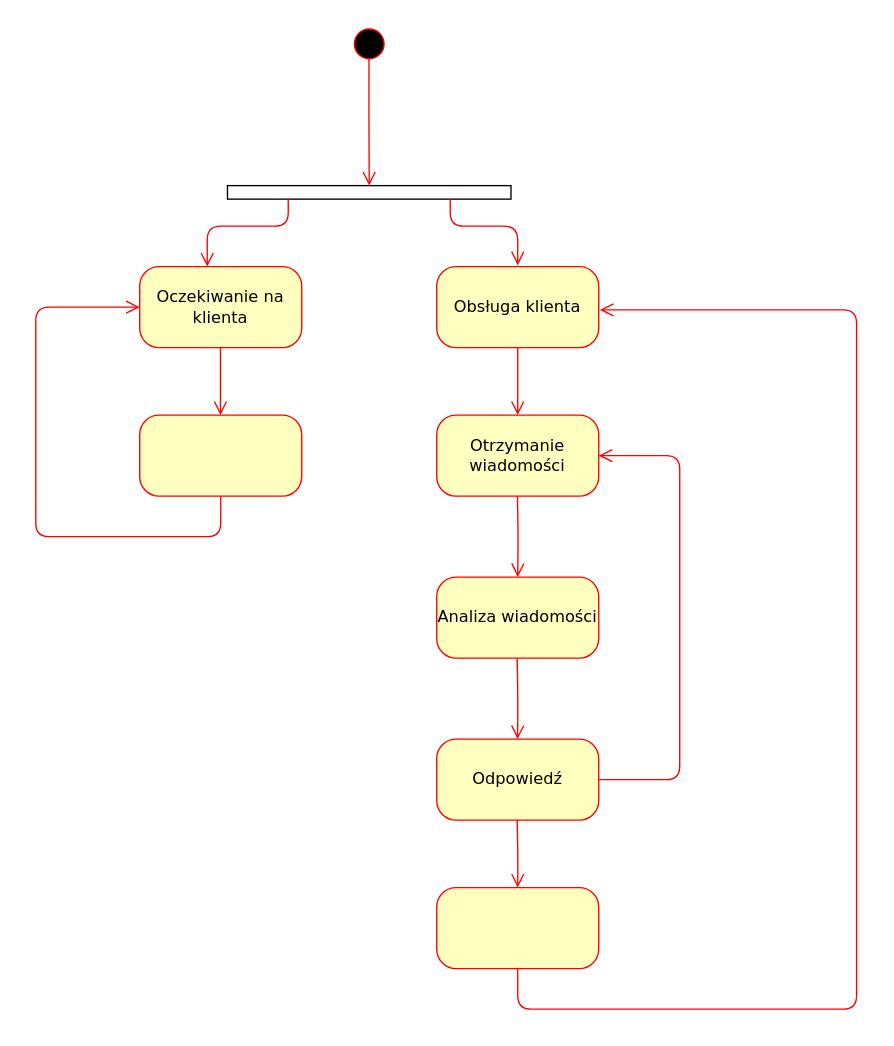
Image size: 894x1046. Some labels were removed from this diagram. The box of each missing label's shape, as (x1, y1, x2, y2) in pixels:
Koniec gry: (435, 886, 599, 969)
Połączenie klienta: (138, 414, 302, 496)
